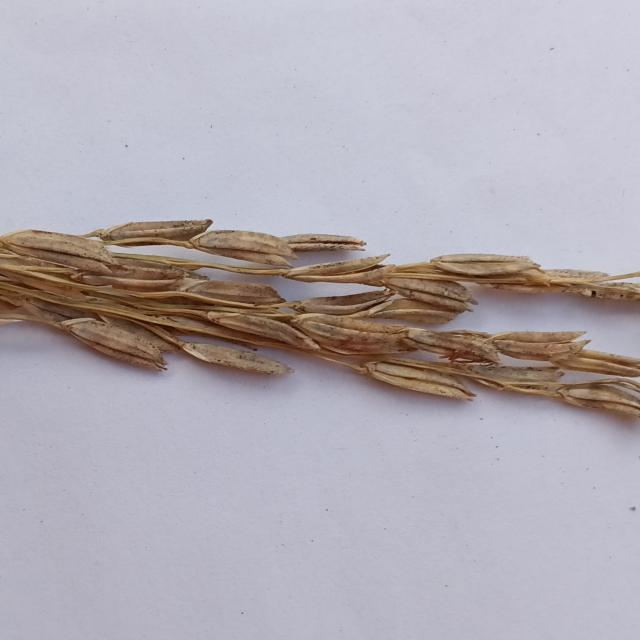Neck_Blast: (0, 216, 640, 425)
